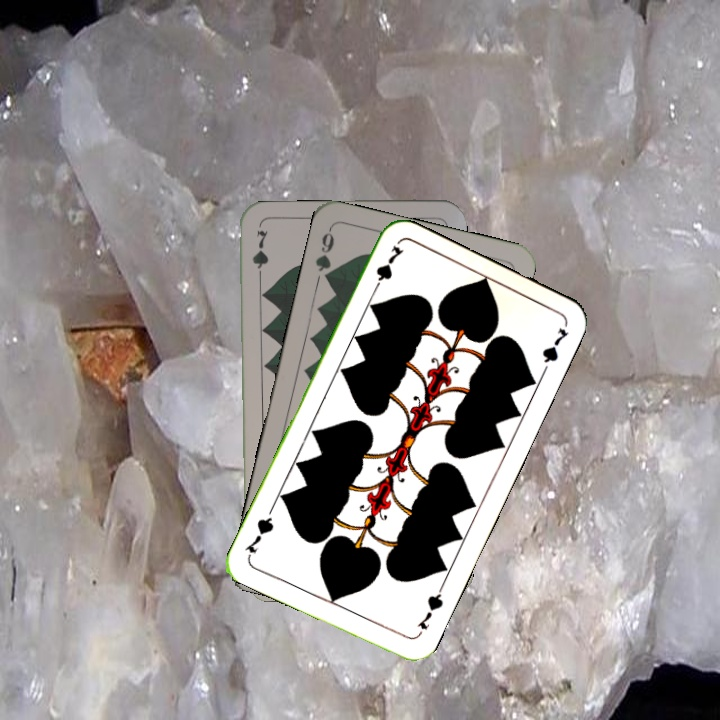G7: (368, 241, 406, 297), (413, 583, 446, 633), (248, 226, 271, 285)
G9: (311, 225, 337, 285)
